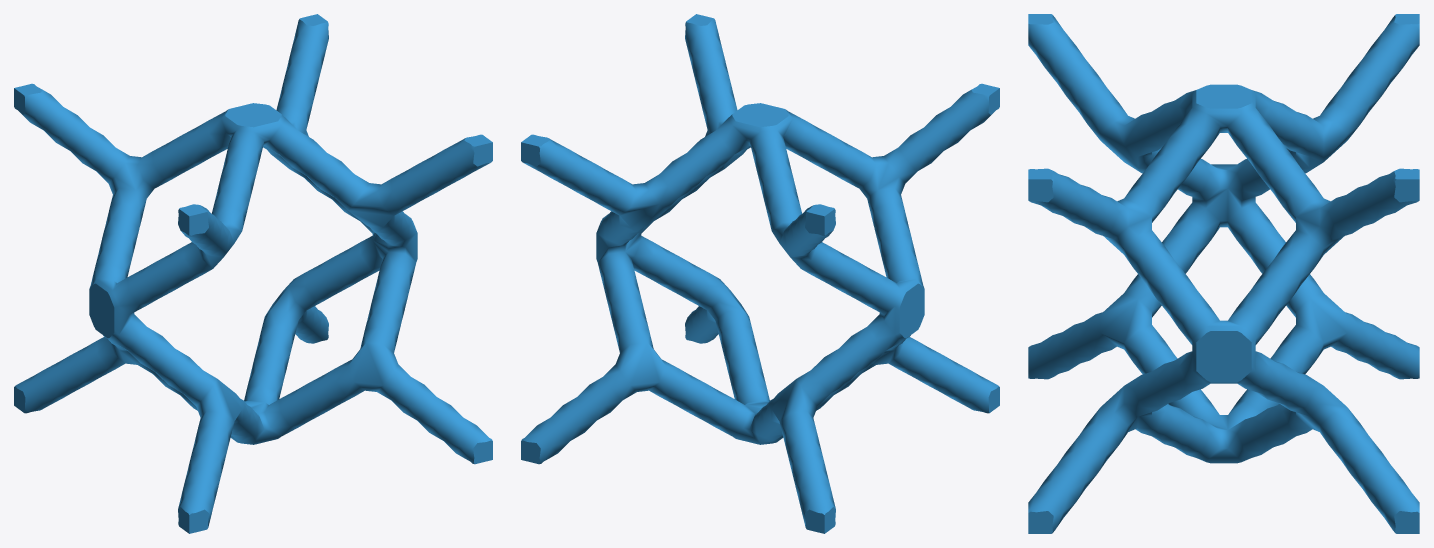
The model's file is Variation1.glb.
3 views of the same model, side by side, from view 1: azimuth 30°, elevation 25°; view 2: azimuth 150°, elevation 25°; view 3: azimuth 270°, elevation 25° (orthographic). The views are drawn at different scales.
Visible parts, largest first — view 1: Mesh_0.014; view 2: Mesh_0.014; view 3: Mesh_0.014.
Part boxes in pixels (left/top/right/bottom): Mesh_0.014: left=14, top=14, right=492, bottom=533; Mesh_0.014: left=521, top=14, right=999, bottom=533; Mesh_0.014: left=1028, top=14, right=1419, bottom=533.
Bounding box in the file's own units: 1 × 1 × 1.
